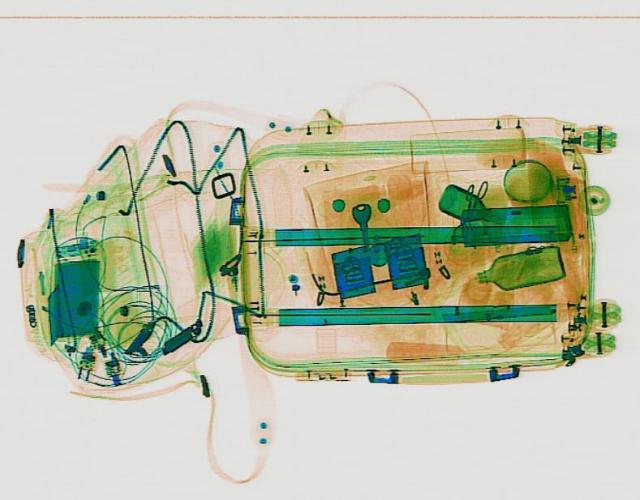Scissors: (454, 177, 488, 234)
